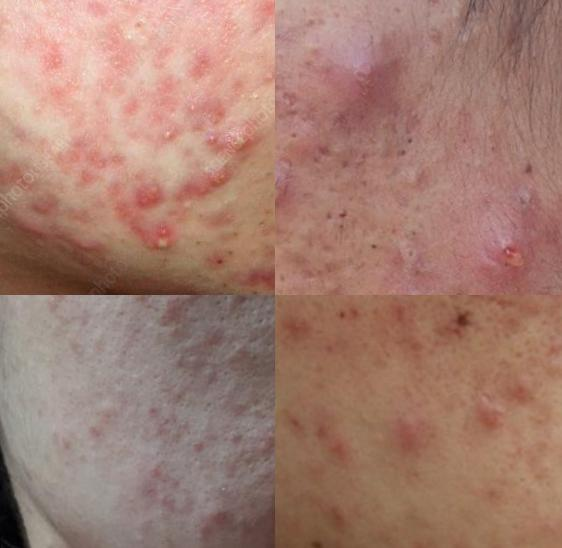acne_scars: (426, 307, 486, 344), (477, 296, 529, 319)
blackhead: (306, 135, 376, 182), (396, 217, 443, 279), (392, 123, 427, 168), (327, 198, 357, 243), (361, 229, 388, 274), (242, 158, 276, 186), (242, 93, 270, 119), (251, 207, 276, 235), (228, 422, 249, 446), (226, 228, 249, 248), (280, 283, 308, 296), (194, 206, 213, 223), (217, 278, 234, 296), (191, 234, 208, 250), (223, 247, 238, 263), (265, 185, 276, 203), (249, 286, 265, 296), (269, 151, 276, 169)
keloid: (6, 215, 61, 255), (61, 235, 125, 261)
papular: (474, 227, 544, 283), (329, 53, 398, 103), (393, 411, 444, 466), (469, 395, 514, 446), (276, 160, 300, 231), (56, 329, 104, 360), (328, 429, 363, 464), (205, 495, 236, 532), (143, 458, 167, 483), (141, 399, 166, 421), (142, 478, 163, 502), (86, 420, 108, 442), (125, 296, 159, 308), (188, 436, 208, 455), (42, 296, 68, 310), (131, 530, 150, 548), (268, 4, 276, 35)
purulent: (281, 305, 321, 352), (144, 226, 184, 258), (178, 97, 207, 119), (160, 125, 182, 147)
sebo-crystan-conglo: (187, 164, 235, 204), (197, 125, 261, 154), (134, 186, 166, 213)
whitehead: (174, 329, 226, 395), (75, 446, 94, 468)
